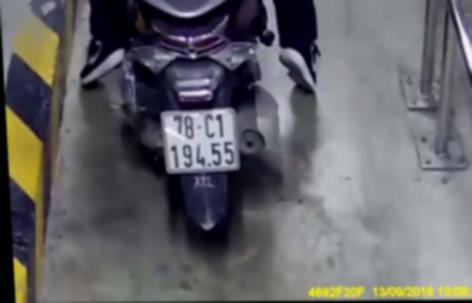License_Plate: (153, 104, 244, 183)
